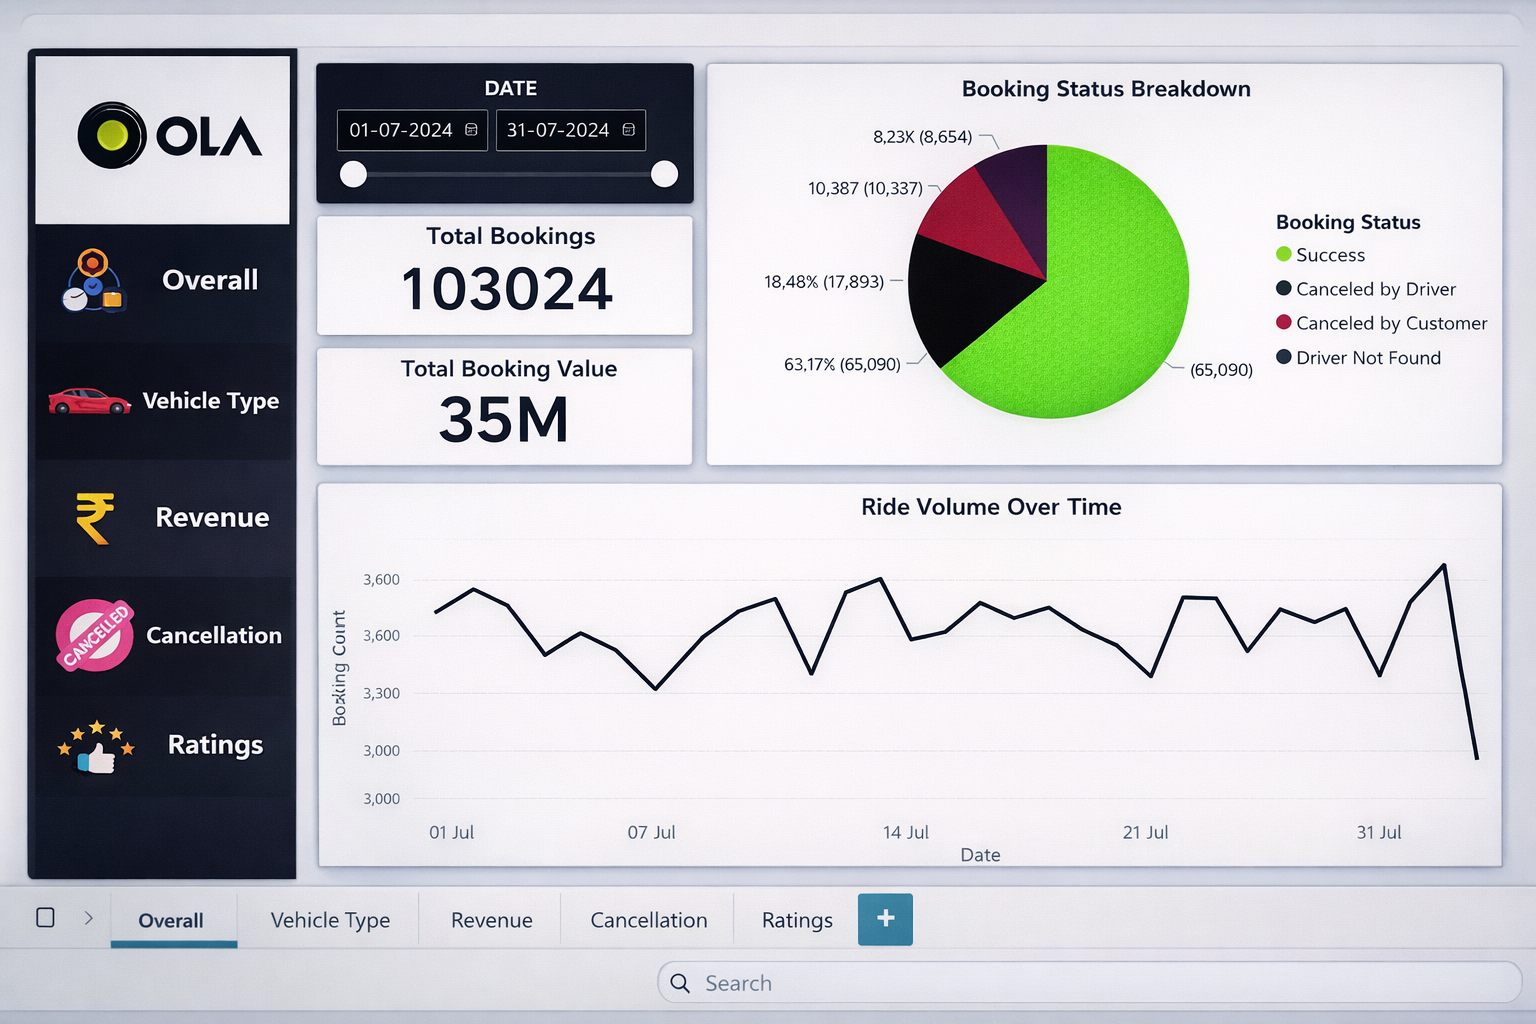

The dashboard page shown, as its layout file describes it:
{"tool":"powerbi","page":{"name":"Overall","canvas":[1280,720],"ordinal":0},"visuals":[{"type":"shape","box":[11.2,0,268.7,709.1],"z":0},{"type":"image","box":[19.9,8.7,251.3,158],"z":1000},{"type":"actionButton","box":[11.2,177.9,268.7,84.6],"z":2000},{"type":"actionButton","box":[11.2,283.6,268.7,88.3],"z":3000},{"type":"actionButton","box":[11.2,389.4,268.7,90.8],"z":4000},{"type":"actionButton","box":[11.2,496.3,268.7,97],"z":5000},{"type":"actionButton","box":[11.2,602.1,268.7,102],"z":6000},{"type":"textbox","box":[145.5,195.3,109.5,48.5],"z":7000},{"type":"textbox","box":[116.9,296.1,154.3,43.5],"z":8000},{"type":"textbox","box":[140.6,413,107,44.8],"z":9000},{"type":"textbox","box":[116.9,523.7,149.3,42.3],"z":10000},{"type":"textbox","box":[146.8,629.4,108.2,46],"z":11000},{"type":"image","box":[29.9,177.9,87.1,79.6],"z":12000},{"type":"image","box":[19.9,283.6,94.5,88.3],"z":13000},{"type":"image","box":[39.8,398.1,77.1,73.4],"z":14000},{"type":"image","box":[28.6,500.1,90.8,88.3],"z":15000},{"type":"image","box":[39.8,608.3,80.9,88.3],"z":16000},{"type":"lineChart","title":"Ride Volume Over Time","fields":{"Category":["July.Date"],"Y":["CountNonNull(July.Booking_ID)"]},"box":[299.1,371.9,967.4,337.6],"z":17000},{"type":"pieChart","title":"Booking Status Breakdown","fields":{"Category":["July.Booking_Status"],"Y":["CountNonNull(July.Booking_Status)"]},"box":[596.9,19.2,669.6,340.3],"z":18000},{"type":"slicer","title":"DATE","fields":{"Values":["July.Date"]},"box":[298.6,18.7,288.6,116.9],"z":19000},{"type":"card","title":"Total Bookings","fields":{"Values":["CountNonNull(July.Booking_ID)"]},"box":[298.6,148,288.6,95.8],"z":20000},{"type":"card","title":"Total Booking Value","fields":{"Values":["Sum(July.Booking_Value)"]},"box":[298.6,257.5,288.6,95.8],"z":21000}]}

Visuals, with their boxes on the page's 1280x720 design canvas (x1, y1, x2, y2). These are canvas units, not pixel positions in the 1536x1024 screenshot, which may show the page scaled, cropped or inside an application window:
shape: <box>11,0,280,709</box>
image: <box>20,9,271,167</box>
actionButton: <box>11,178,280,262</box>
actionButton: <box>11,284,280,372</box>
actionButton: <box>11,389,280,480</box>
actionButton: <box>11,496,280,593</box>
actionButton: <box>11,602,280,704</box>
textbox: <box>146,195,255,244</box>
textbox: <box>117,296,271,340</box>
textbox: <box>141,413,248,458</box>
textbox: <box>117,524,266,566</box>
textbox: <box>147,629,255,675</box>
image: <box>30,178,117,258</box>
image: <box>20,284,114,372</box>
image: <box>40,398,117,472</box>
image: <box>29,500,119,588</box>
image: <box>40,608,121,697</box>
"Ride Volume Over Time" lineChart: <box>299,372,1266,710</box>
"Booking Status Breakdown" pieChart: <box>597,19,1266,360</box>
"DATE" slicer: <box>299,19,587,136</box>
"Total Bookings" card: <box>299,148,587,244</box>
"Total Booking Value" card: <box>299,258,587,353</box>
